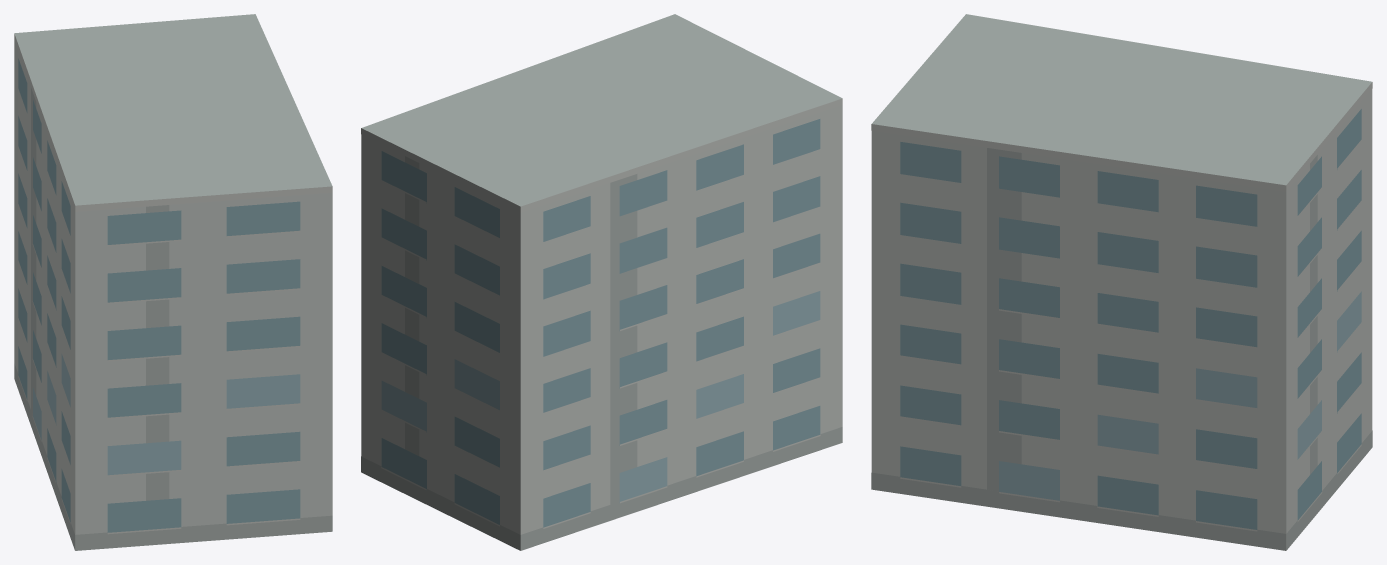
The model's file is survey-upis-32887496.glb.
The picture shows the model from 3 angles, left to right: view 1: azimuth 30°, elevation 25°; view 2: azimuth 150°, elevation 25°; view 3: azimuth 270°, elevation 25°; orthographic projection. The views are drawn at different scales.
Visible parts, largest first — view 1: survey-upis-32887496.tmp; view 2: survey-upis-32887496.tmp; view 3: survey-upis-32887496.tmp.
Part boxes in pixels (x1,y1,x2,y2): survey-upis-32887496.tmp: (14,14,332,550); survey-upis-32887496.tmp: (361,14,842,550); survey-upis-32887496.tmp: (871,14,1372,550).
Size of the model in its own units: 13.28 by 13.2 by 16.4.
